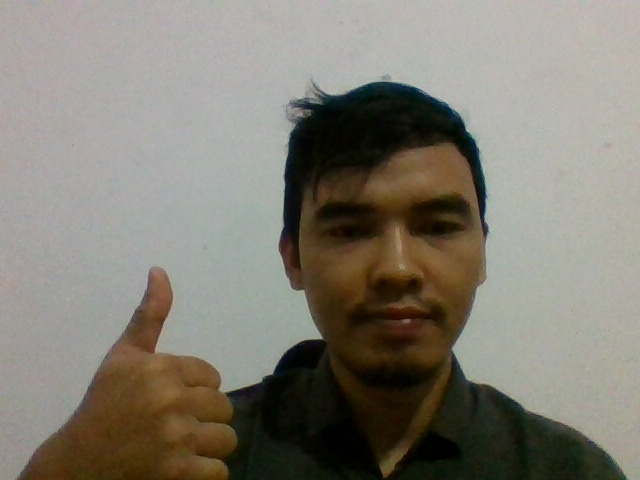hello: (47, 257, 260, 479)
